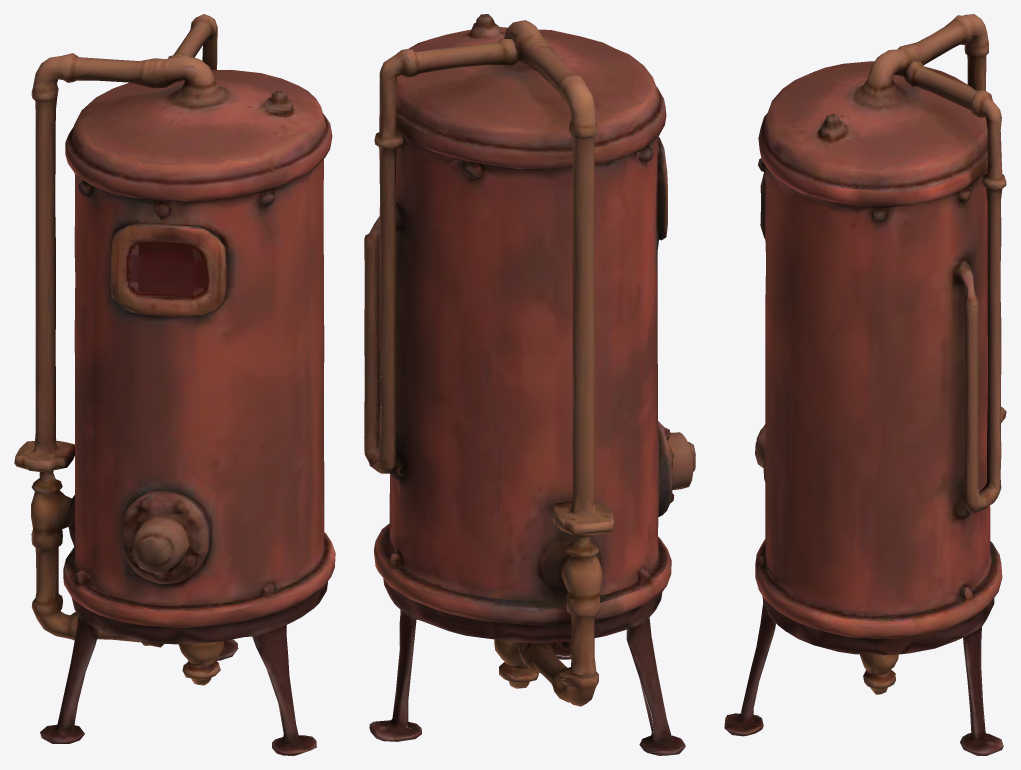
Rendered from calefon.glb.
3 views of the same model, side by side, from view 1: azimuth 30°, elevation 25°; view 2: azimuth 150°, elevation 25°; view 3: azimuth 270°, elevation 25° (orthographic). The views are drawn at different scales.
Visible parts, largest first — view 1: geometry_0; view 2: geometry_0; view 3: geometry_0.
Boxes of the visible parts, left/top/right/bottom form: geometry_0: left=14, top=14, right=335, bottom=755; geometry_0: left=364, top=14, right=695, bottom=755; geometry_0: left=724, top=14, right=1006, bottom=755.
Bounding box in the file's own units: 0.4 × 0.9 × 0.35.
Materials: 1 (1 with a texture image).
